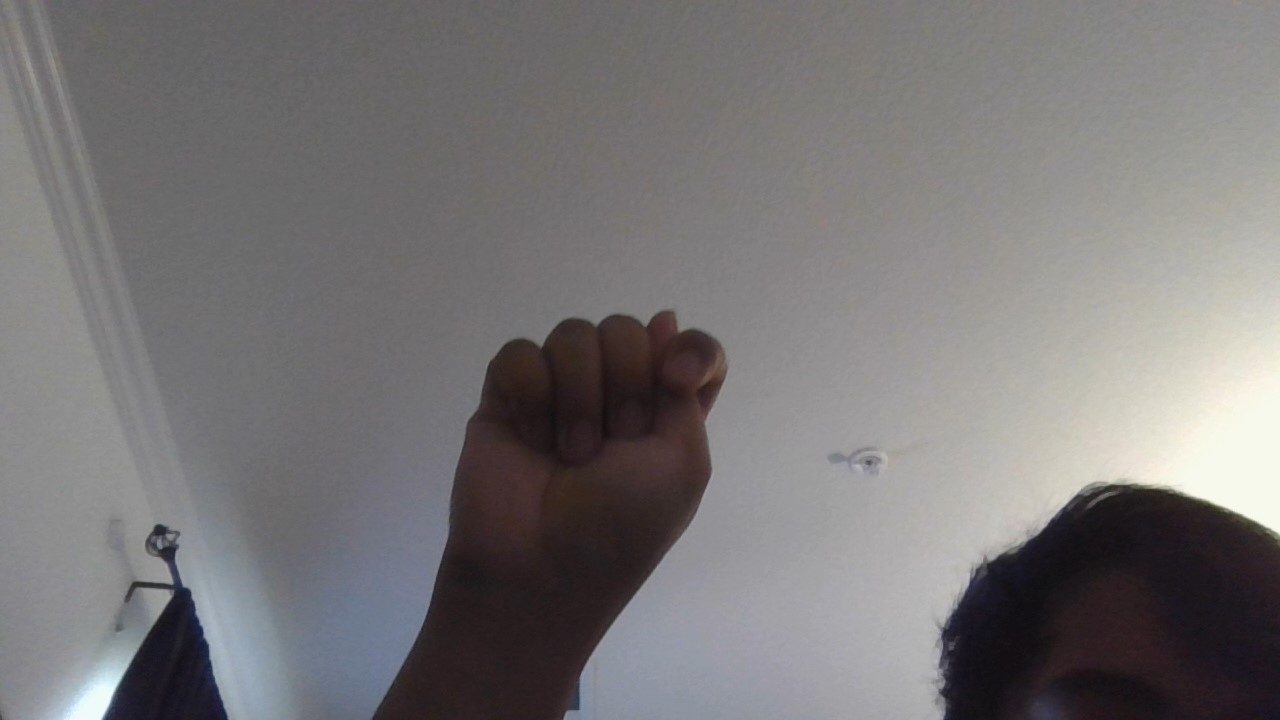t: (429, 300, 756, 598)
